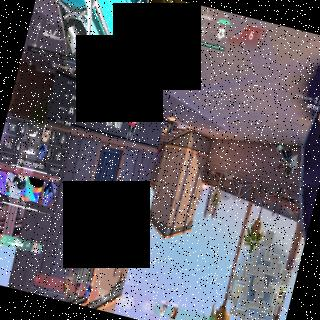ENEMY-BODY: (153, 140, 165, 165)
ENEMY-HEAD: (154, 159, 158, 163)
